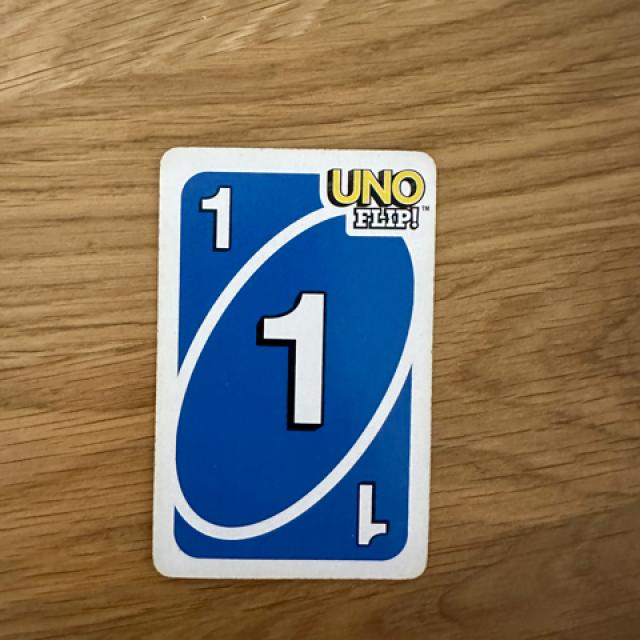lblue-1: (172, 164, 268, 277)
